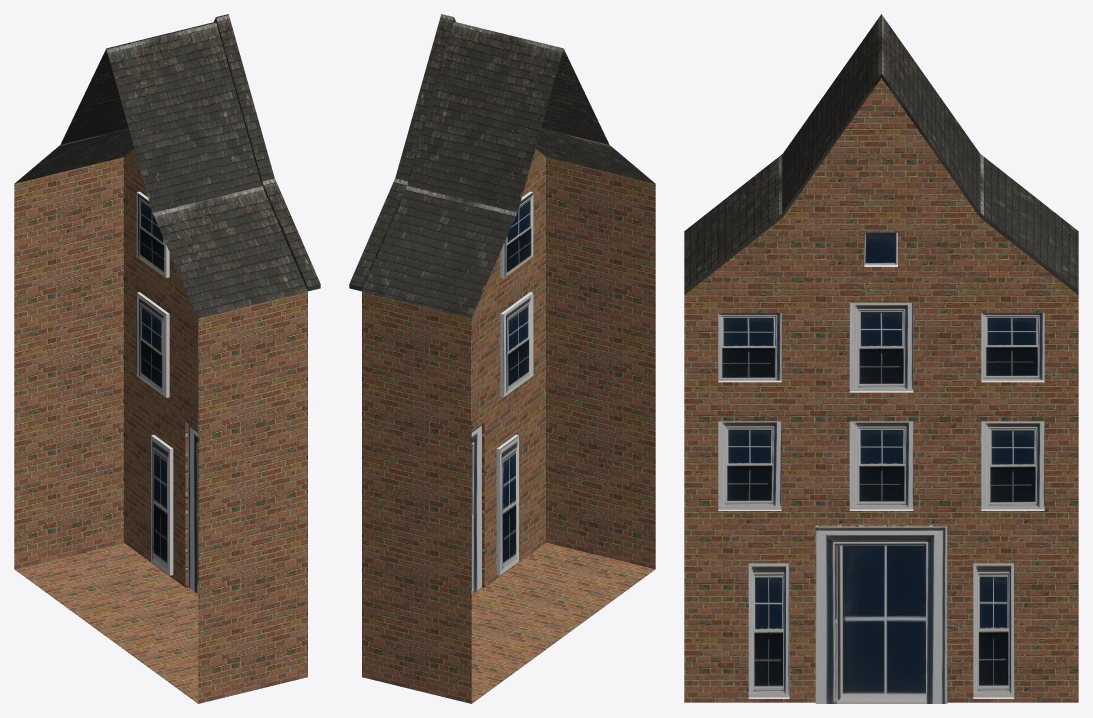
The model's file is buildings.glb.
The picture shows the model from 3 angles, left to right: view 1: azimuth 30°, elevation 25°; view 2: azimuth 150°, elevation 25°; view 3: azimuth 270°, elevation 25°; orthographic projection. The views are drawn at different scales.
Parts seen in each view (by area): view 1: street_building_01; view 2: street_building_01; view 3: street_building_01.
Part boxes in pixels (x1=…): street_building_01: x1=14, y1=14, x2=320, y2=703; street_building_01: x1=349, y1=14, x2=655, y2=703; street_building_01: x1=684, y1=14, x2=1078, y2=703.
Size of the model in its own units: 2.23 by 10.33 by 5.81.
5 materials, 5 textured.
